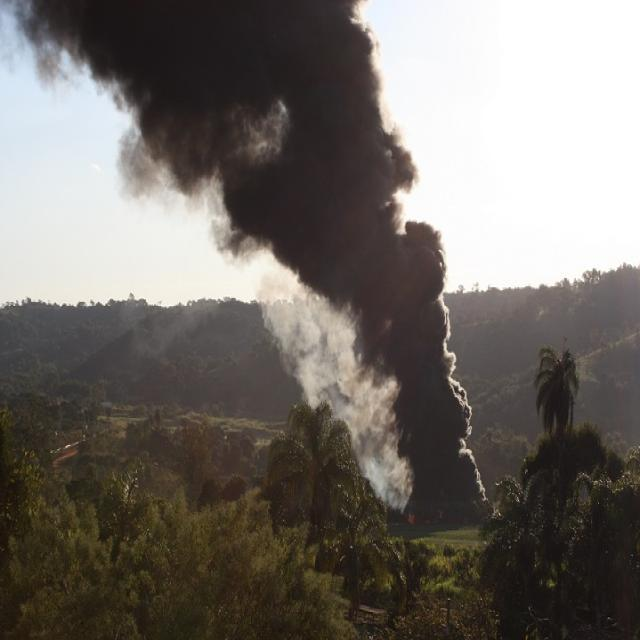Smoke: (26, 10, 500, 505)
